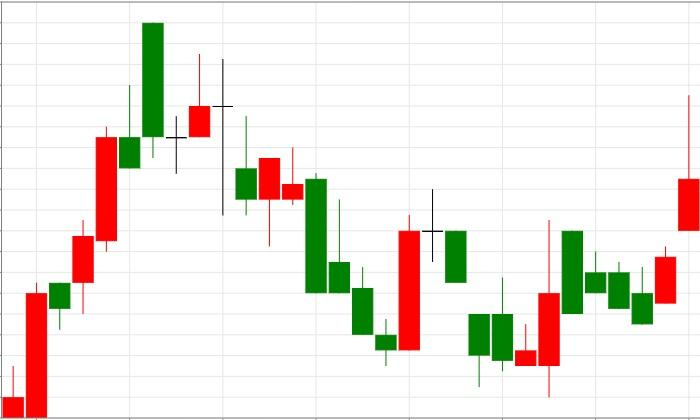shooting_star_fall: (2, 84, 139, 418)
